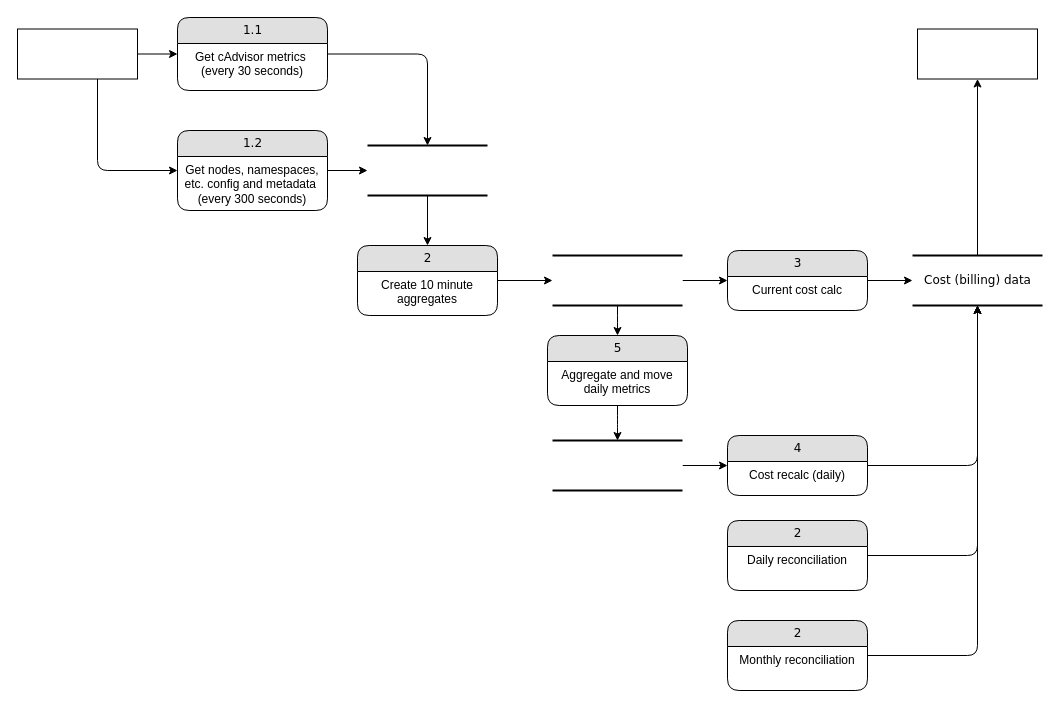
Some shapes in this 1061 by 711 pixel diagram are drawn without their labels. The box of each missing label's shape, as (x1, y1, x2, y2) in pixels:
Agent (local storage): (366, 144, 488, 196)
Daily metrics: (551, 439, 683, 491)
Kubernetes API: (16, 28, 138, 79)
Metrics and metadata: (551, 254, 683, 306)
UI: (916, 28, 1038, 79)
